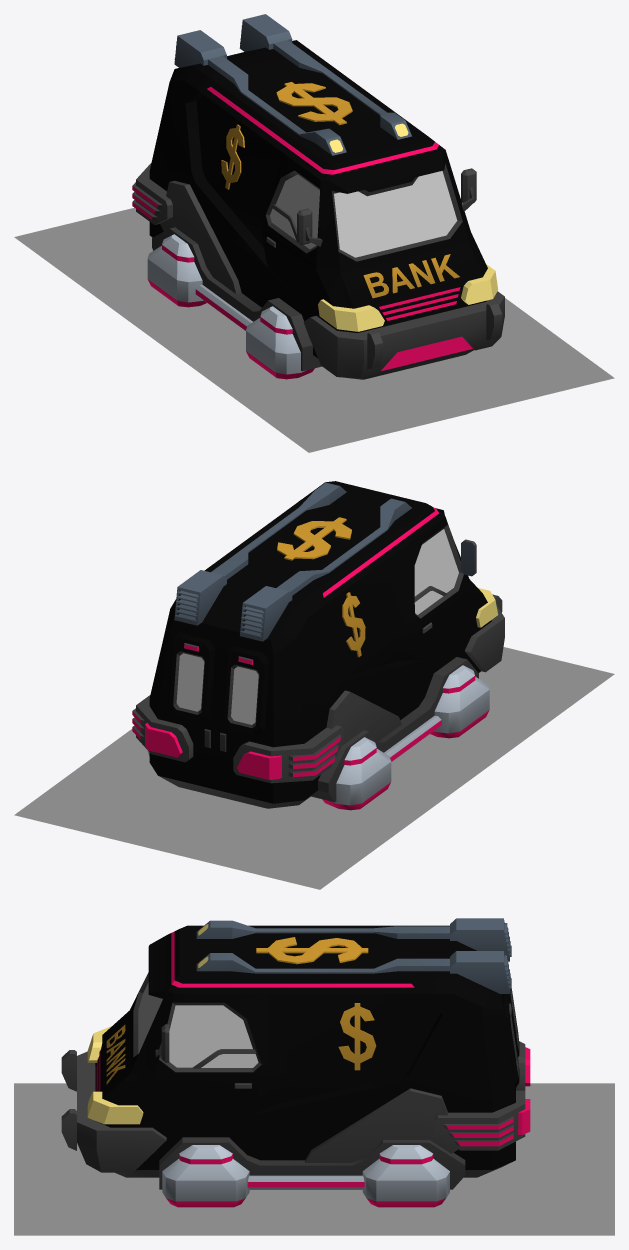
File: Vehiculo_Alto.FBX
3 views of the same model, one above another, from view 1: azimuth 30°, elevation 25°; view 2: azimuth 150°, elevation 25°; view 3: azimuth 270°, elevation 25° (orthographic).
Parts seen in each view (by area): view 1: Vehiculo_Alto_Caudales_02, Vehicle_Engine_Glow; view 2: Vehiculo_Alto_Caudales_02, Vehicle_Engine_Glow; view 3: Vehiculo_Alto_Caudales_02, Vehicle_Engine_Glow.
Part boxes in pixels (x1,y1,x2,y2): Vehiculo_Alto_Caudales_02: [132, 14, 504, 379]; Vehicle_Engine_Glow: [14, 207, 614, 452]; Vehiculo_Alto_Caudales_02: [132, 481, 504, 810]; Vehicle_Engine_Glow: [14, 647, 614, 889]; Vehiculo_Alto_Caudales_02: [61, 918, 530, 1207]; Vehicle_Engine_Glow: [14, 1083, 614, 1235].
Size of what is drawn, in the model's own units: 465 by 776 by 312.
